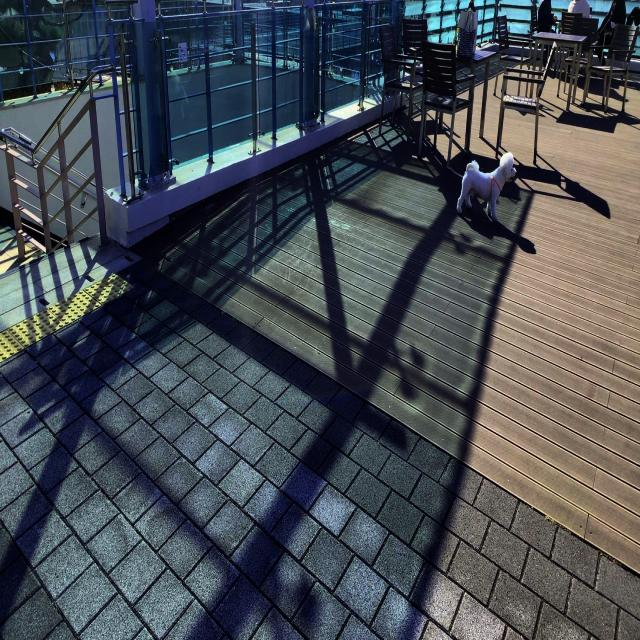Dog: (456, 150, 517, 222)
